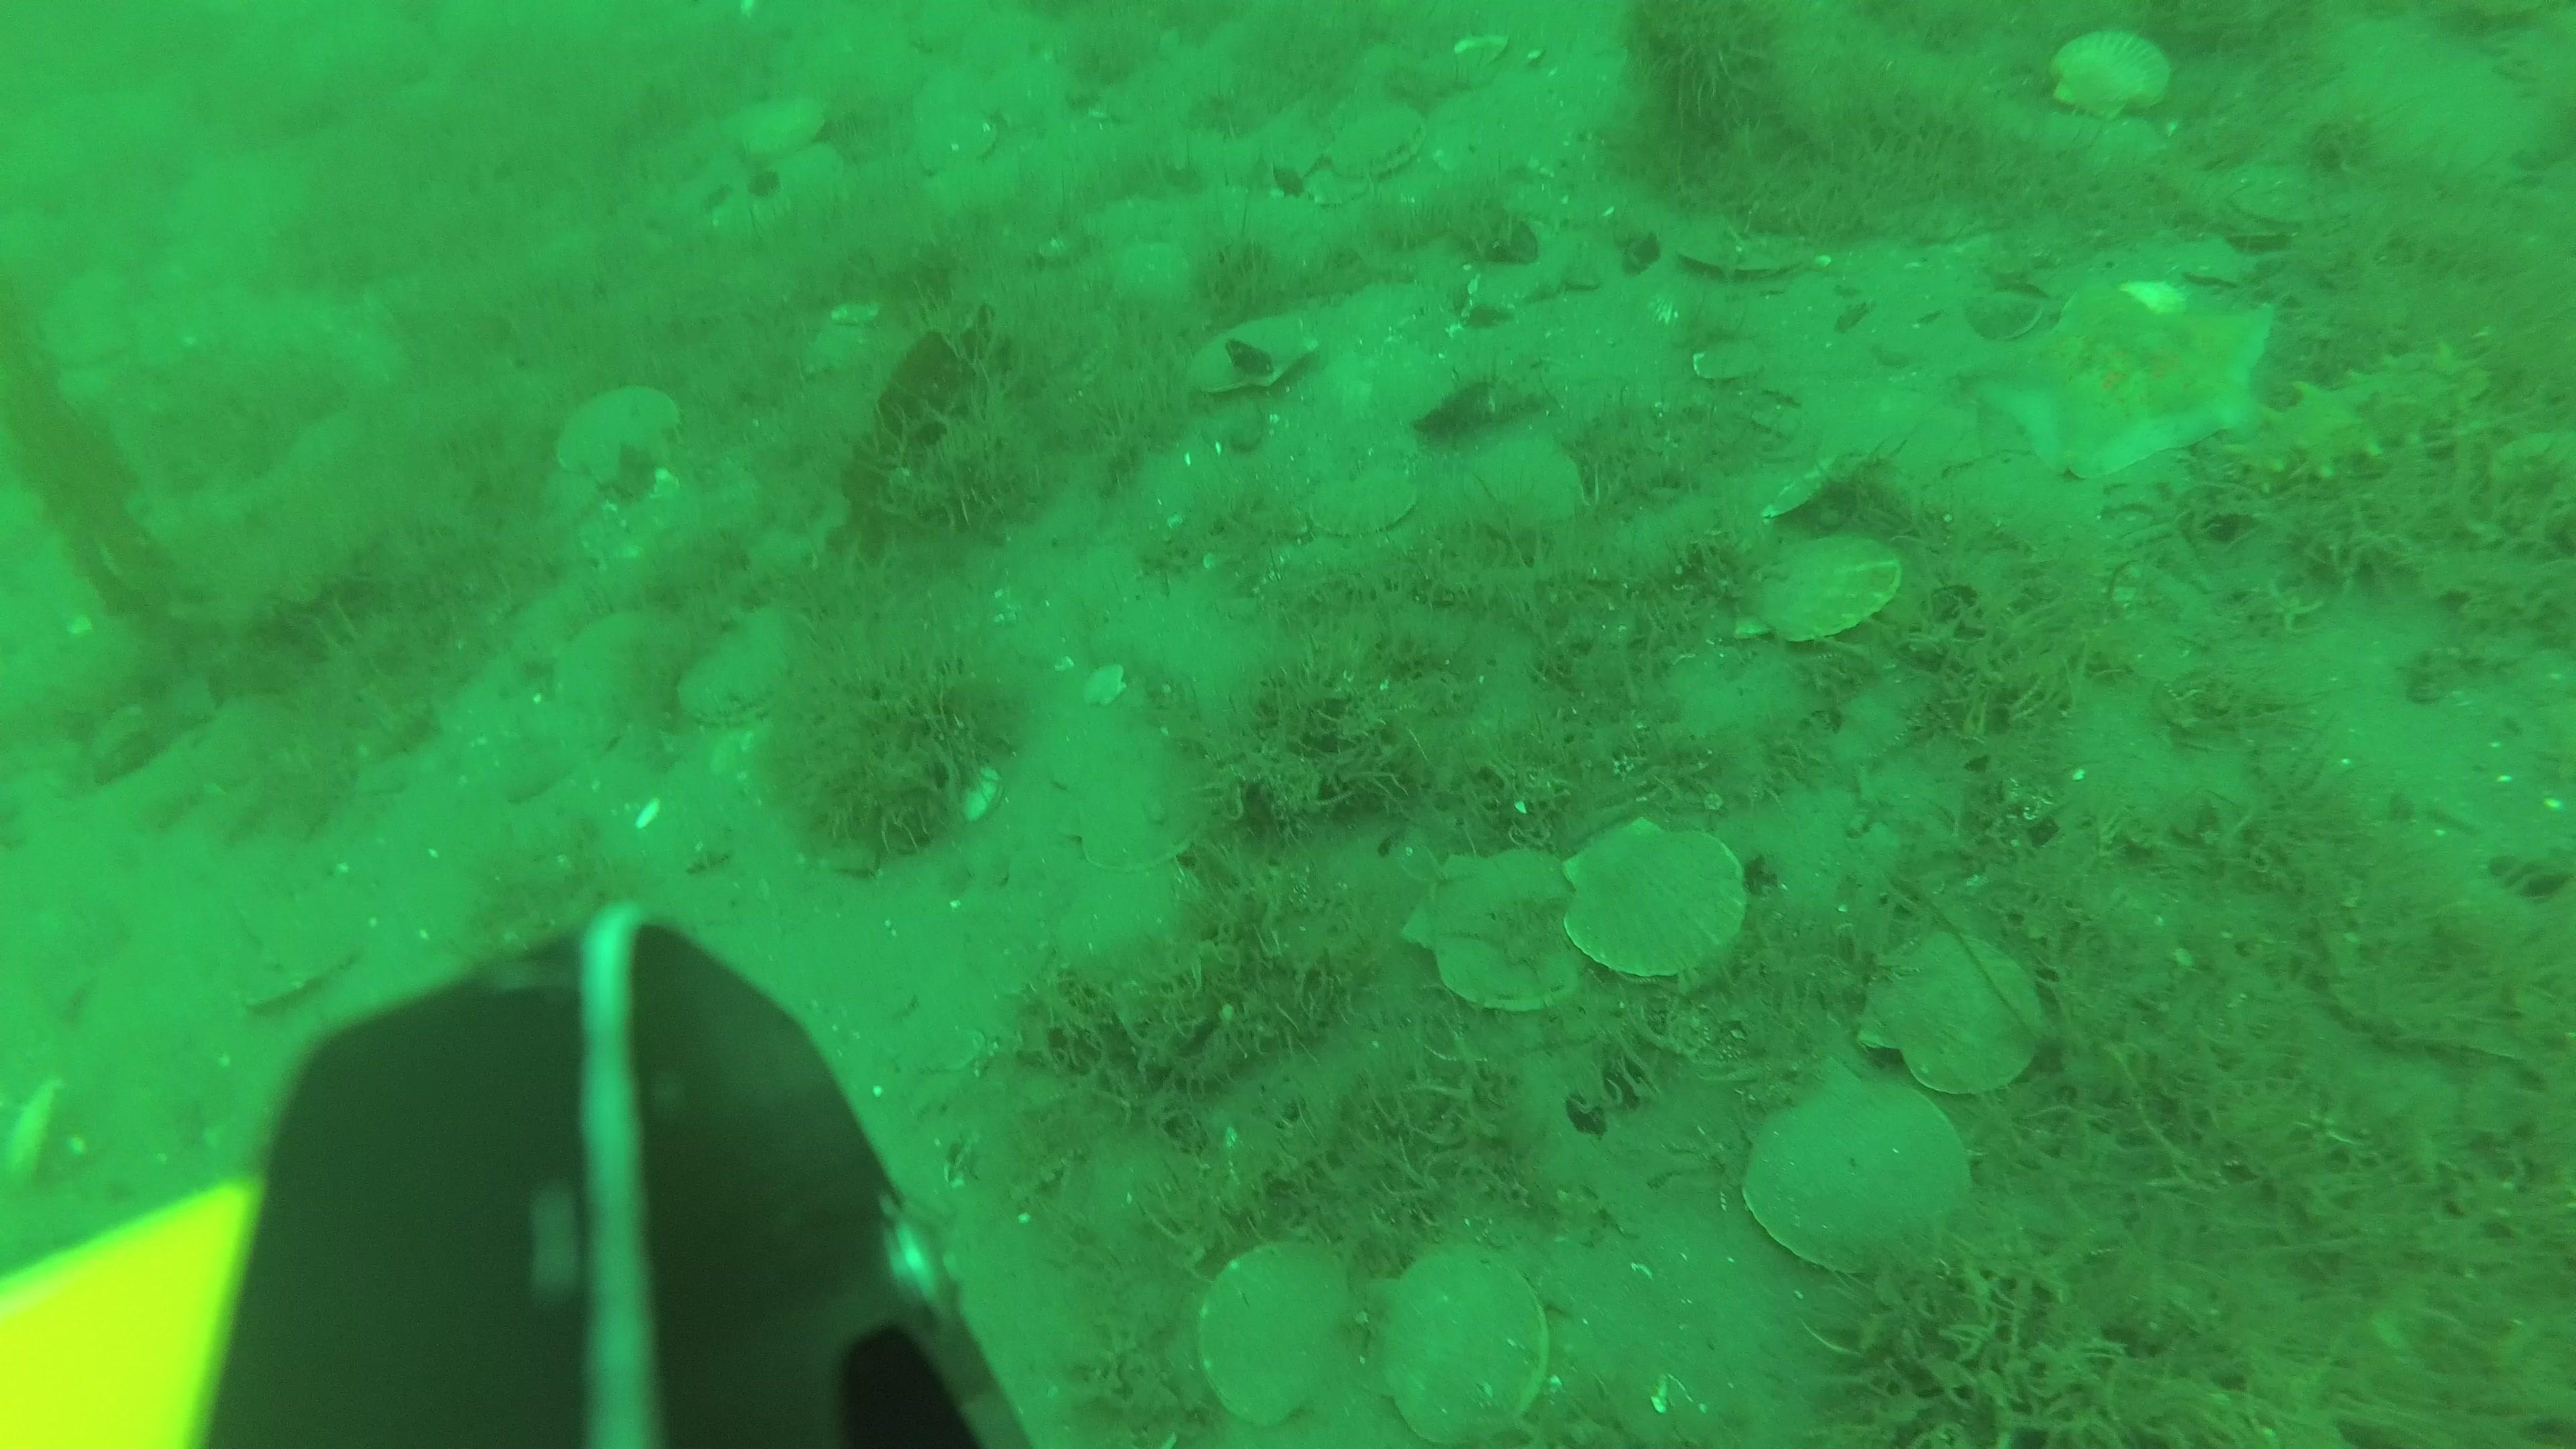holothurian: (2235, 336, 2498, 506)
scallop: (1755, 1079, 1980, 1279), (1375, 1251, 1560, 1444), (1408, 840, 1598, 1017), (1557, 821, 1752, 987), (1868, 932, 2040, 1102), (1196, 1240, 1355, 1421), (1743, 534, 1909, 655), (557, 384, 697, 504), (681, 633, 812, 731), (556, 621, 679, 718), (1468, 433, 1587, 533), (2051, 35, 2173, 131), (1293, 460, 1431, 541), (1205, 311, 1322, 402), (1675, 228, 1815, 294), (1320, 104, 1424, 182), (724, 106, 828, 163)
starfish: (1962, 281, 2302, 517)
